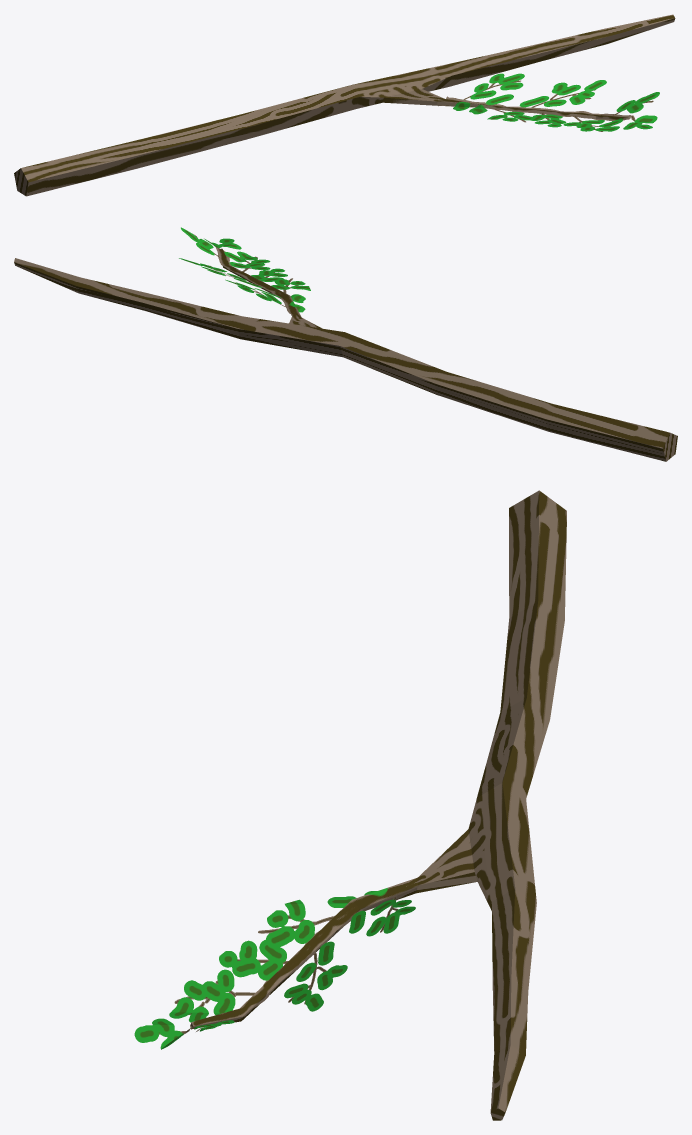
The model's file is Model_Patyk_3.fbx.
The picture shows the model from 3 angles, top to bottom: view 1: azimuth 30°, elevation 25°; view 2: azimuth 150°, elevation 25°; view 3: azimuth 270°, elevation 25°; orthographic projection. The views are drawn at different scales.
Parts seen in each view (by area): view 1: Cylinder; view 2: Cylinder; view 3: Cylinder.
Boxes of the visible parts, x1,y1,x2,y2 form: Cylinder: [14, 14, 675, 196]; Cylinder: [14, 227, 677, 461]; Cylinder: [134, 490, 566, 1120].
Size of the model in its own units: 18.96 by 3.51 by 63.58.
